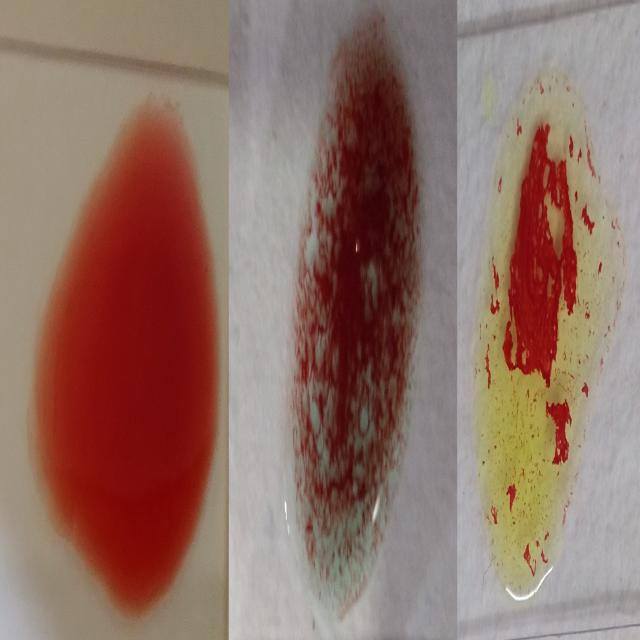A: (287, 10, 422, 620)
B: (472, 62, 607, 604)
